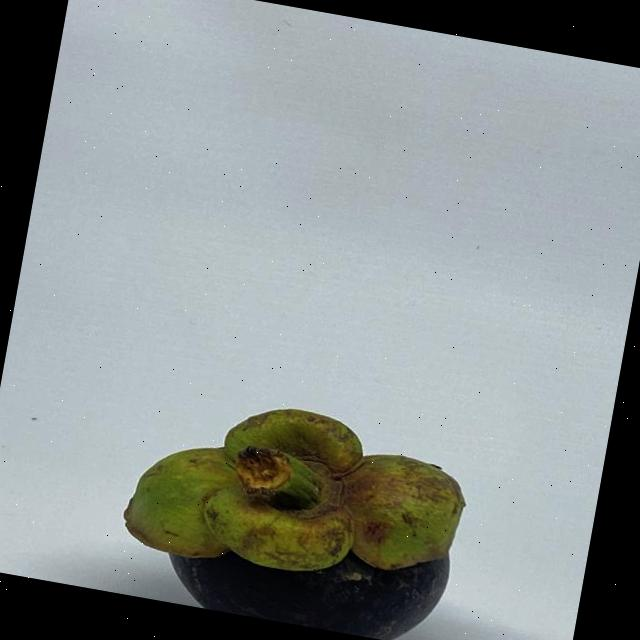mangosteen: (105, 358, 516, 640)
